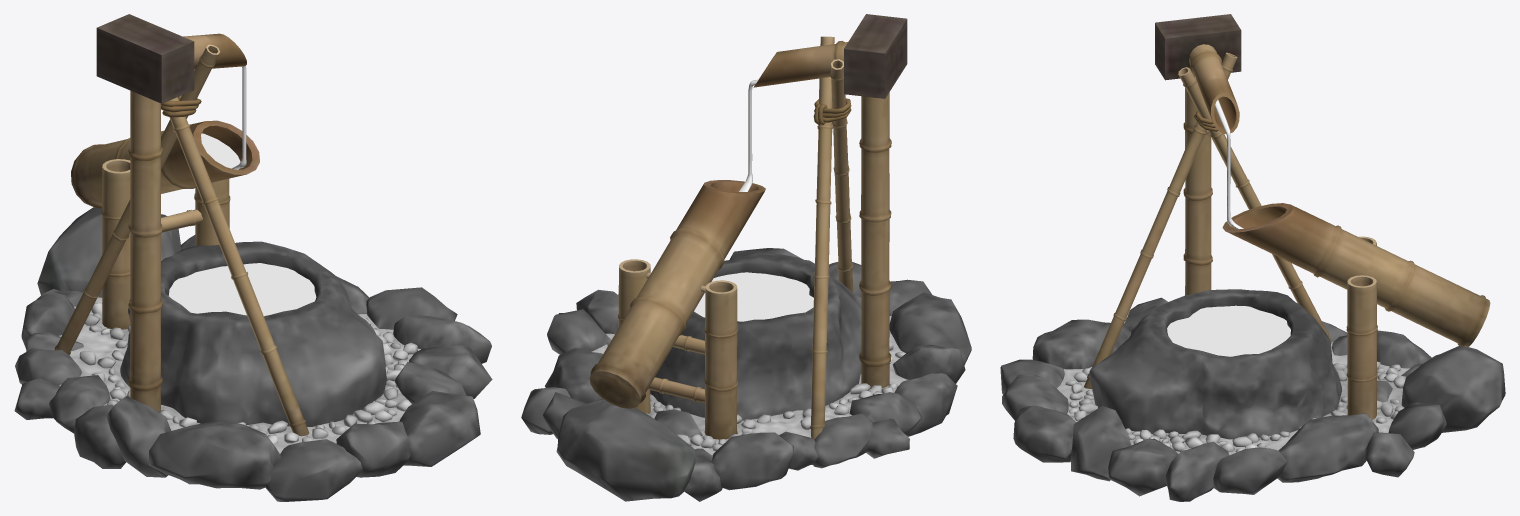
File: SK_Shishiodoshi_0f94dc.glb
The picture shows the model from 3 angles, left to right: view 1: azimuth 30°, elevation 25°; view 2: azimuth 150°, elevation 25°; view 3: azimuth 270°, elevation 25°; orthographic projection. The views are drawn at different scales.
Bounding box in the file's own units: 1.24 × 1.2 × 1.54.
Materials: 3 (1 with a texture image).
